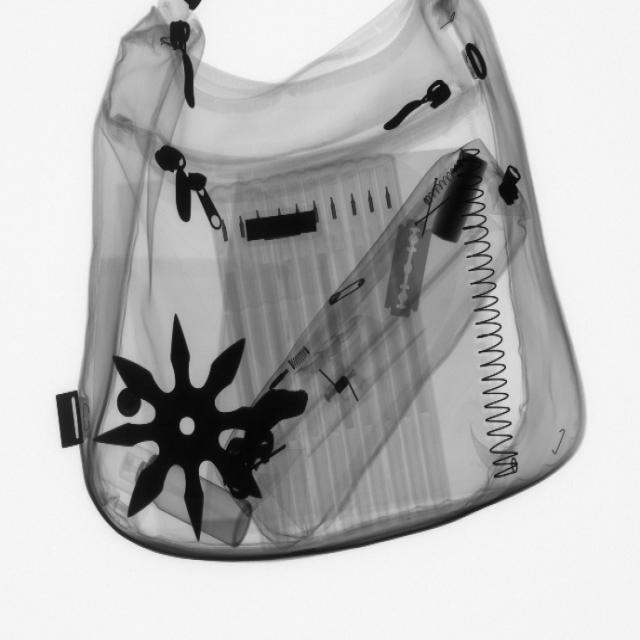BLADE: (382, 210, 434, 325)
SHURIKEN: (95, 312, 282, 541)
